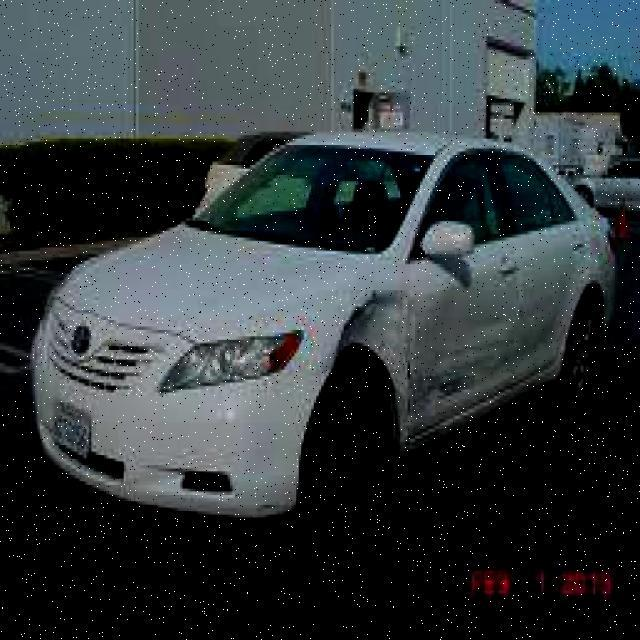car damage: (340, 285, 520, 455)
